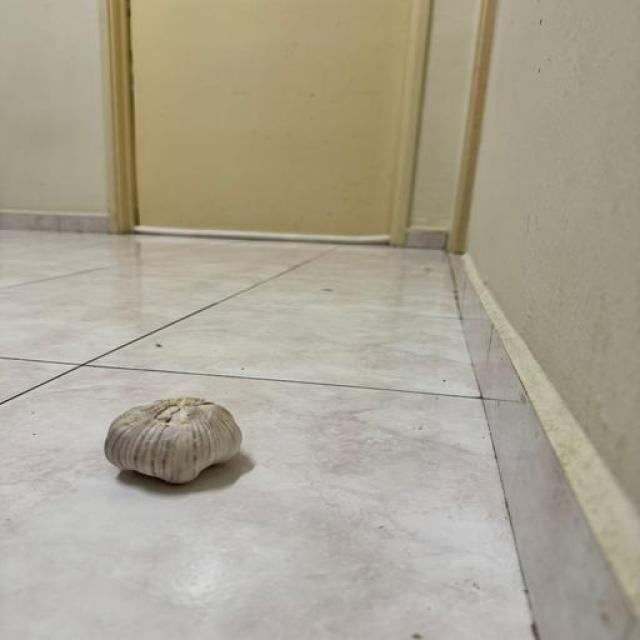organic: (100, 366, 272, 553)
